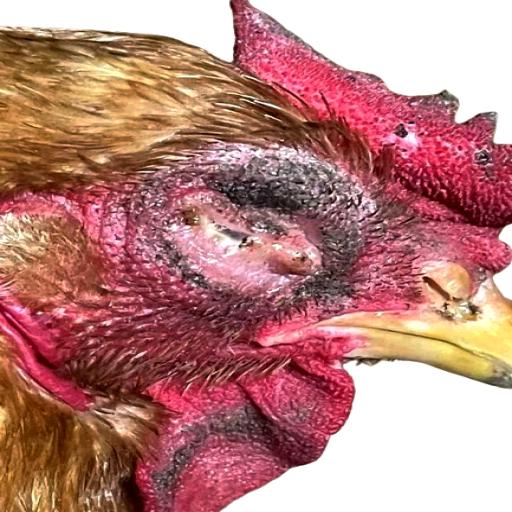disease: (87, 130, 357, 343), (218, 0, 378, 79), (405, 85, 512, 178), (355, 99, 436, 165)
